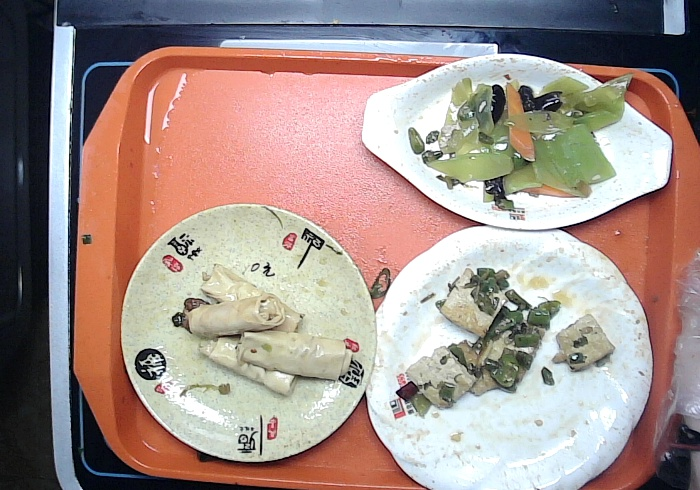NLDX-Bai_Zhe_Yuan_Pan: (365, 227, 656, 490)
NLDX-Fu_Zi_Yuan_Pan: (116, 199, 381, 463)
NLDX-Yu_Pan: (361, 50, 672, 230)
